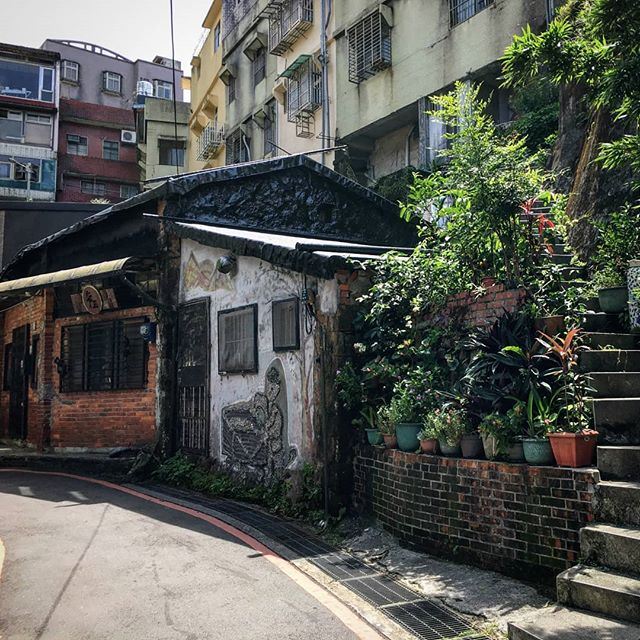building: (1, 151, 335, 465), (212, 1, 634, 172), (1, 43, 175, 209)
street: (1, 475, 401, 639)
